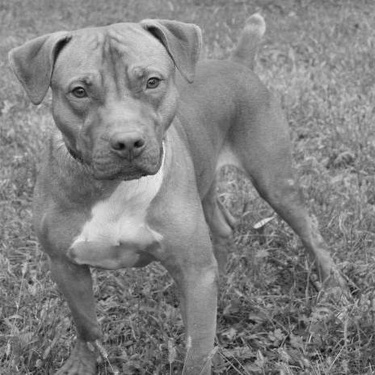dog: (3, 11, 353, 372)
